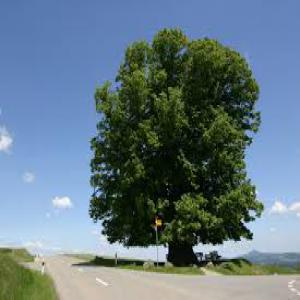Tree: (88, 23, 264, 261)
